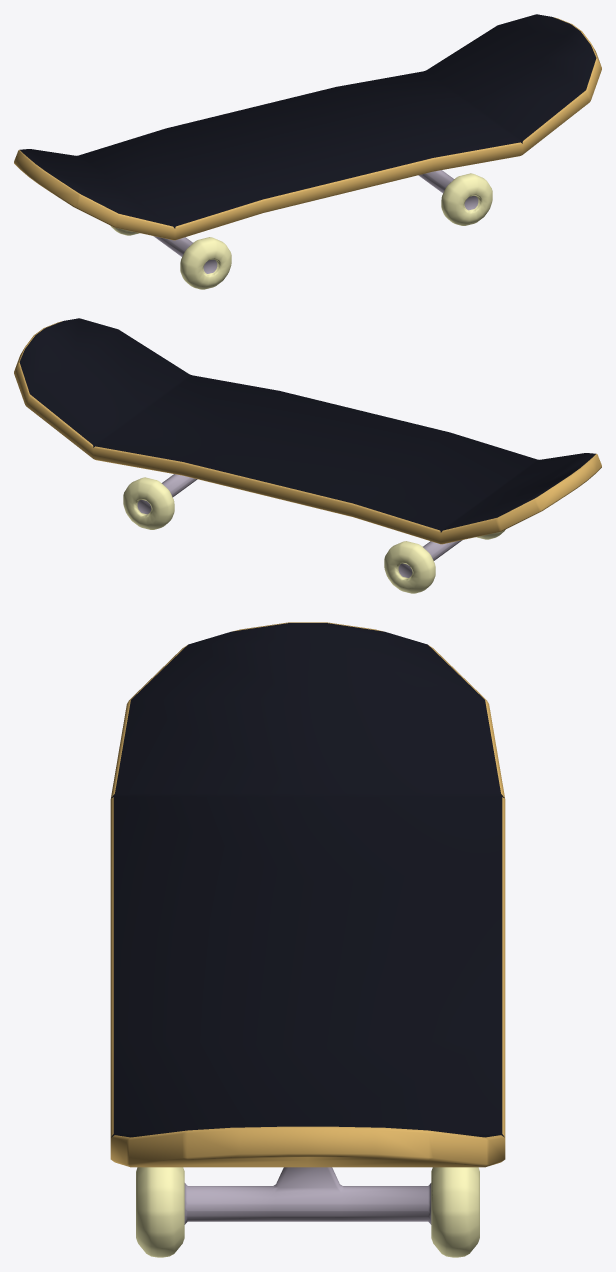
The model's file is Skate.fbx.
3 renders of one model, top to bottom at view 1: azimuth 30°, elevation 25°; view 2: azimuth 150°, elevation 25°; view 3: azimuth 270°, elevation 25°, orthographic. The views are drawn at different scales.
Parts seen in each view (by area): view 1: Msh_Skate; view 2: Msh_Skate; view 3: Msh_Skate.
Part boxes in pixels (bbox=[...]): Msh_Skate: bbox=[14, 14, 601, 289]; Msh_Skate: bbox=[14, 318, 601, 593]; Msh_Skate: bbox=[110, 622, 505, 1257].
Bounding box in the file's own units: 556 × 129 × 173.
